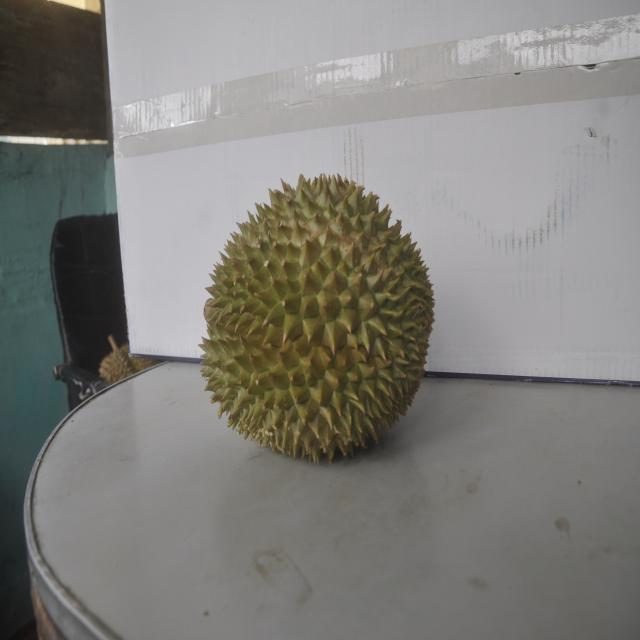mature: (201, 171, 433, 467)
